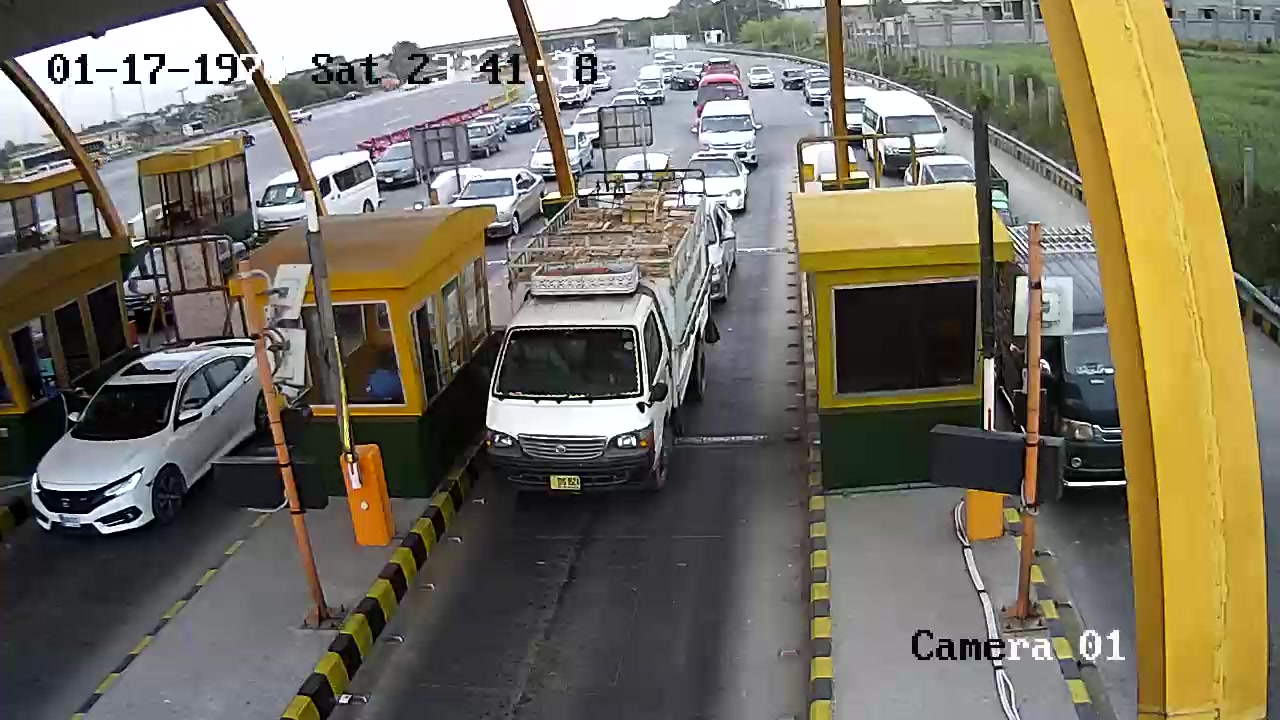F2: (472, 162, 716, 514)
